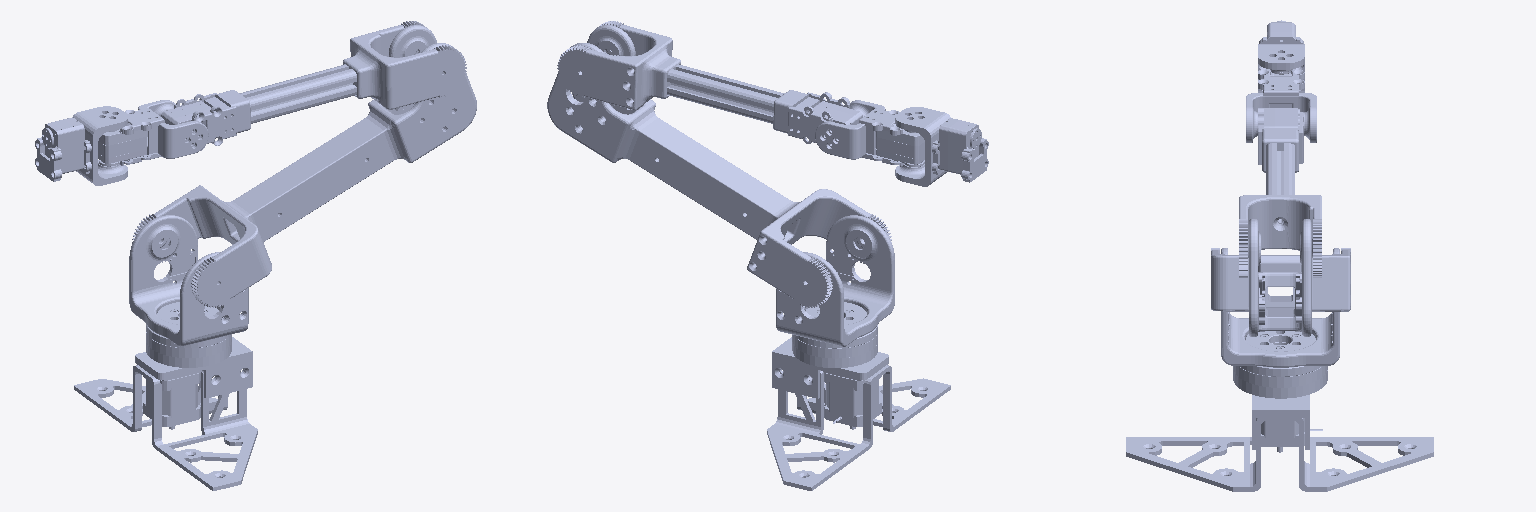
The robot description file, URDF, robot "URDF_arm_URDF2":
<?xml version="1.0" encoding="utf-8"?>
<!-- This URDF was automatically created by SolidWorks to URDF Exporter! Originally created by Stephen Brawner (brawner@gmail.com) 
     Commit Version: 1.6.0-4-g7f85cfe  Build Version: 1.6.7995.38578
     For more information, please see http://wiki.ros.org/sw_urdf_exporter -->
<robot
  name="URDF_arm_URDF2">
  <link
    name="base_link">
    <inertial>
      <origin
        xyz="-0.0026322 -0.0003321 0.047625"
        rpy="0 0 0" />
      <mass
        value="0.20023" />
      <inertia
        ixx="0.00030516"
        ixy="5.9194E-09"
        ixz="-5.4826E-06"
        iyy="0.0001836"
        iyz="3.0317E-10"
        izz="0.00035673" />
    </inertial>
    <visual>
      <origin
        xyz="0 0 0"
        rpy="0 0 0" />
      <geometry>
        <mesh
          filename="package://URDF_arm_URDF2/meshes/base_link.STL" />
      </geometry>
      <material
        name="">
        <color
          rgba="0.79216 0.81961 0.93333 1" />
      </material>
    </visual>
    <collision>
      <origin
        xyz="0 0 0"
        rpy="0 0 0" />
      <geometry>
        <mesh
          filename="package://URDF_arm_URDF2/meshes/base_link.STL" />
      </geometry>
    </collision>
  </link>
  <link
    name="arm_link1_link">
    <inertial>
      <origin
        xyz="4.4154E-09 0.00012263 0.03561"
        rpy="0 0 0" />
      <mass
        value="0.22724" />
      <inertia
        ixx="0.00018081"
        ixy="1.9997E-12"
        ixz="3.6574E-13"
        iyy="0.00014144"
        iyz="-1.1208E-07"
        izz="0.00017415" />
    </inertial>
    <visual>
      <origin
        xyz="0 0 0"
        rpy="0 0 0" />
      <geometry>
        <mesh
          filename="package://URDF_arm_URDF2/meshes/arm_link1_link.STL" />
      </geometry>
      <material
        name="">
        <color
          rgba="0.79216 0.81961 0.93333 1" />
      </material>
    </visual>
    <collision>
      <origin
        xyz="0 0 0"
        rpy="0 0 0" />
      <geometry>
        <mesh
          filename="package://URDF_arm_URDF2/meshes/arm_link1_link.STL" />
      </geometry>
    </collision>
  </link>
  <joint
    name="arm_link1_joint"
    type="revolute">
    <origin
      xyz="0 0 0.0813"
      rpy="0 0 1.5708" />
    <parent
      link="base_link" />
    <child
      link="arm_link1_link" />
    <axis
      xyz="0 0 -1" />
    <limit
      lower="-3"
      upper="3"
      effort="3"
      velocity="2" />
  </joint>
  <link
    name="arm_link2_link">
    <inertial>
      <origin
        xyz="-0.00485070416050022 0.000134485688723283 0.151153265475347"
        rpy="0 0 0" />
      <mass
        value="0.308407273968913" />
      <inertia
        ixx="0.00053626238823764"
        ixy="-5.59420743166653E-07"
        ixz="4.55969419474211E-05"
        iyy="0.000463619794404845"
        iyz="-5.41211328309889E-05"
        izz="0.000288462361152878" />
    </inertial>
    <visual>
      <origin
        xyz="0 0 0"
        rpy="0 0 0" />
      <geometry>
        <mesh
          filename="package://URDF_arm_URDF2/meshes/arm_link2_link.STL" />
      </geometry>
      <material
        name="">
        <color
          rgba="0.792156862745098 0.819607843137255 0.933333333333333 1" />
      </material>
    </visual>
    <collision>
      <origin
        xyz="0 0 0"
        rpy="0 0 0" />
      <geometry>
        <mesh
          filename="package://URDF_arm_URDF2/meshes/arm_link2_link.STL" />
      </geometry>
    </collision>
  </link>
  <joint
    name="arm_link2_joint"
    type="revolute">
    <origin
      xyz="0 0.002 0.093"
      rpy="0 1.2215 -1.5708" />
    <parent
      link="arm_link1_link" />
    <child
      link="arm_link2_link" />
    <axis
      xyz="0 1 0" />
    <limit
      lower="0.3"
      upper="-2.6"
      effort="3"
      velocity="2" />
  </joint>
  <link
    name="arm_link3_link">
    <inertial>
      <origin
        xyz="-2.34728627439007E-05 0.000222724161649632 0.121657321107221"
        rpy="0 0 0" />
      <mass
        value="0.215223681868676" />
      <inertia
        ixx="0.00018788748127738"
        ixy="1.29532449730699E-09"
        ixz="-2.48397547566625E-09"
        iyy="0.000177005795239143"
        iyz="-1.9538129798689E-05"
        izz="5.96362187800749E-05" />
    </inertial>
    <visual>
      <origin
        xyz="0 0 0"
        rpy="0 0 0" />
      <geometry>
        <mesh
          filename="package://URDF_arm_URDF2/meshes/arm_link3_link.STL" />
      </geometry>
      <material
        name="">
        <color
          rgba="0.792156862745098 0.819607843137255 0.933333333333333 1" />
      </material>
    </visual>
    <collision>
      <origin
        xyz="0 0 0"
        rpy="0 0 0" />
      <geometry>
        <mesh
          filename="package://URDF_arm_URDF2/meshes/arm_link3_link.STL" />
      </geometry>
    </collision>
  </link>
  <joint
    name="arm_link3_joint"
    type="revolute">
    <origin
      xyz="-0.05 0 0.29"
      rpy="-3.1416 -0.31921 -3.1416" />
    <parent
      link="arm_link2_link" />
    <child
      link="arm_link3_link" />
    <axis
      xyz="0 1 0" />
    <limit
      lower="-0.5"
      upper="3"
      effort="3"
      velocity="2" />
  </joint>
  <link
    name="arm_link4_link">
    <inertial>
      <origin
        xyz="-6.45090288216854E-05 -2.78077069245028E-05 0.0421410408275514"
        rpy="0 0 0" />
      <mass
        value="0.0799976203192999" />
      <inertia
        ixx="2.98275167277768E-05"
        ixy="-3.78870865359705E-10"
        ixz="2.42643938141168E-10"
        iyy="1.60577540866642E-05"
        iyz="1.06831058125207E-09"
        izz="2.00421216012606E-05" />
    </inertial>
    <visual>
      <origin
        xyz="0 0 0"
        rpy="0 0 0" />
      <geometry>
        <mesh
          filename="package://URDF_arm_URDF2/meshes/arm_link4_link.STL" />
      </geometry>
      <material
        name="">
        <color
          rgba="0.792156862745098 0.819607843137255 0.933333333333333 1" />
      </material>
    </visual>
    <collision>
      <origin
        xyz="0 0 0"
        rpy="0 0 0" />
      <geometry>
        <mesh
          filename="package://URDF_arm_URDF2/meshes/arm_link4_link.STL" />
      </geometry>
    </collision>
  </link>
  <joint
    name="arm_link4_joint"
    type="revolute">
    <origin
      xyz="0 0.0006 0.26473"
      rpy="0 0.030046 0" />
    <parent
      link="arm_link3_link" />
    <child
      link="arm_link4_link" />
    <axis
      xyz="0 -1 0" />
    <limit
      lower="-1.5"
      upper="1.5"
      effort="3"
      velocity="2" />
  </joint>
  <link
    name="arm_link5_link">
    <inertial>
      <origin
        xyz="0.00382150605784931 -7.8562176892609E-05 0.0340017507140248"
        rpy="0 0 0" />
      <mass
        value="0.0824183861074839" />
      <inertia
        ixx="1.34651970301421E-05"
        ixy="1.06510176554276E-09"
        ixz="7.33151583063895E-09"
        iyy="3.06523685609496E-05"
        iyz="3.77177397828779E-10"
        izz="3.09091303833253E-05" />
    </inertial>
    <visual>
      <origin
        xyz="0 0 0"
        rpy="0 0 0" />
      <geometry>
        <mesh
          filename="package://URDF_arm_URDF2/meshes/arm_link5_link.STL" />
      </geometry>
      <material
        name="">
        <color
          rgba="0.792156862745098 0.819607843137255 0.933333333333333 1" />
      </material>
    </visual>
    <collision>
      <origin
        xyz="0 0 0"
        rpy="0 0 0" />
      <geometry>
        <mesh
          filename="package://URDF_arm_URDF2/meshes/arm_link5_link.STL" />
      </geometry>
    </collision>
  </link>
  <joint
    name="arm_link5_joint"
    type="revolute">
    <origin
      xyz="-0.00055 0.0001 0.074331"
      rpy="0 0 0" />
    <parent
      link="arm_link4_link" />
    <child
      link="arm_link5_link" />
    <axis
      xyz="1 0 0" />
    <limit
      lower="-1.5"
      upper="1.5"
      effort="3"
      velocity="2" />
  </joint>
  <link
    name="arm_link6_link">
    <inertial>
      <origin
        xyz="0.0143574958730017 0.00228204903930826 0.0446512981778694"
        rpy="0 0 0" />
      <mass
        value="0.110464975834032" />
      <inertia
        ixx="3.80573356318669E-05"
        ixy="-6.92148846737554E-08"
        ixz="-1.61451005762754E-06"
        iyy="2.62917054320992E-05"
        iyz="7.34627654365672E-09"
        izz="1.59336336306222E-05" />
    </inertial>
    <visual>
      <origin
        xyz="0 0 0"
        rpy="0 0 0" />
      <geometry>
        <mesh
          filename="package://URDF_arm_URDF2/meshes/arm_link6_link.STL" />
      </geometry>
      <material
        name="">
        <color
          rgba="0.792156862745098 0.819607843137255 0.933333333333333 1" />
      </material>
    </visual>
    <collision>
      <origin
        xyz="0 0 0"
        rpy="0 0 0" />
      <geometry>
        <mesh
          filename="package://URDF_arm_URDF2/meshes/arm_link6_link.STL" />
      </geometry>
    </collision>
  </link>
  <joint
    name="arm_link6_joint"
    type="revolute">
    <origin
      xyz="0.022033 0 0.0668"
      rpy="0 0 0" />
    <parent
      link="arm_link5_link" />
    <child
      link="arm_link6_link" />
    <axis
      xyz="0 0 1" />
    <limit
      lower="-3"
      upper="3"
      effort="3"
      velocity="2" />
  </joint>
</robot>

--- Facts derived from the render (not from the file) ---
3 views of the same robot in one strip: view 1: azimuth 30°, elevation 25°; view 2: azimuth 150°, elevation 25°; view 3: azimuth 270°, elevation 25° (orthographic).
Robot: URDF_arm_URDF2 — 7 links, 6 joints (6 revolute); root link base_link; default pose: every joint at zero.
Visible links, largest first — view 1: arm_link2_link, arm_link3_link, base_link, arm_link1_link, arm_link5_link, arm_link4_link; view 2: arm_link2_link, arm_link3_link, base_link, arm_link1_link, arm_link5_link, arm_link4_link; view 3: base_link, arm_link2_link, arm_link3_link, arm_link1_link, arm_link4_link, arm_link5_link.
Boxes of the visible links, x1=… form: arm_link2_link: x1=132, y1=25, x2=476, y2=307; arm_link3_link: x1=161, y1=21, x2=466, y2=150; base_link: x1=74, y1=337, x2=257, y2=490; arm_link1_link: x1=129, y1=215, x2=248, y2=367; arm_link5_link: x1=35, y1=106, x2=127, y2=185; arm_link4_link: x1=98, y1=100, x2=208, y2=166; arm_link2_link: x1=547, y1=25, x2=891, y2=307; arm_link3_link: x1=557, y1=21, x2=862, y2=143; base_link: x1=767, y1=337, x2=950, y2=490; arm_link1_link: x1=776, y1=215, x2=894, y2=367; arm_link5_link: x1=895, y1=107, x2=988, y2=186; arm_link4_link: x1=815, y1=100, x2=924, y2=166; base_link: x1=1126, y1=395, x2=1433, y2=491; arm_link2_link: x1=1211, y1=219, x2=1350, y2=336; arm_link3_link: x1=1239, y1=108, x2=1321, y2=277; arm_link1_link: x1=1221, y1=248, x2=1339, y2=398; arm_link4_link: x1=1246, y1=69, x2=1316, y2=142; arm_link5_link: x1=1258, y1=20, x2=1304, y2=92.
Bounding box of the posed robot: 0.4496 × 0.26 × 0.3455 m (x, y, z).
6 mesh visuals loaded from 7 distinct referenced files (6 binary STL); not drawn: 1 (reference not matched to a file when rendering).
